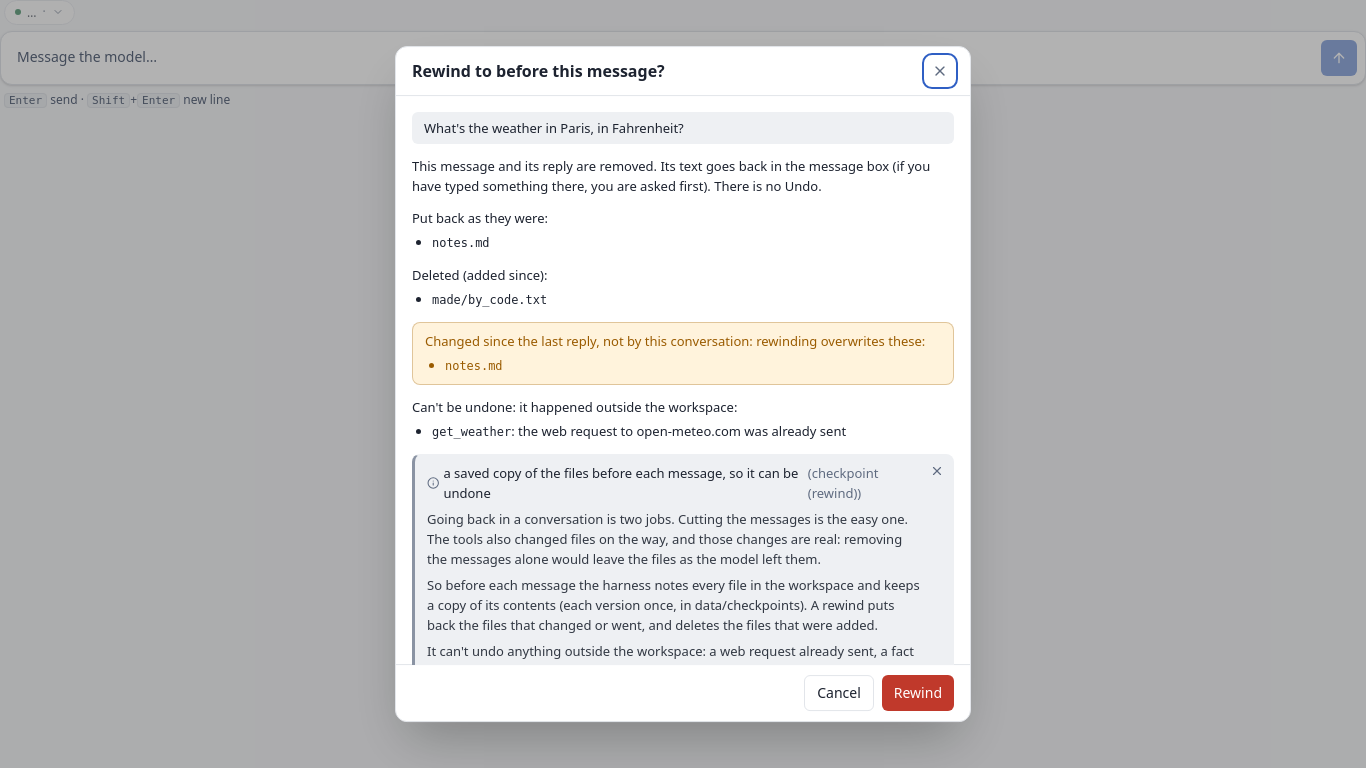
Test: Rewind to here › the dialog lists what it will do; Rewind puts the message back in the box and says what changed
Expected: the list named "Put back as they were" is shown, [432,236,490,250]
Click the button "Rewind".
click(918, 693)  # box [882,675,954,711]
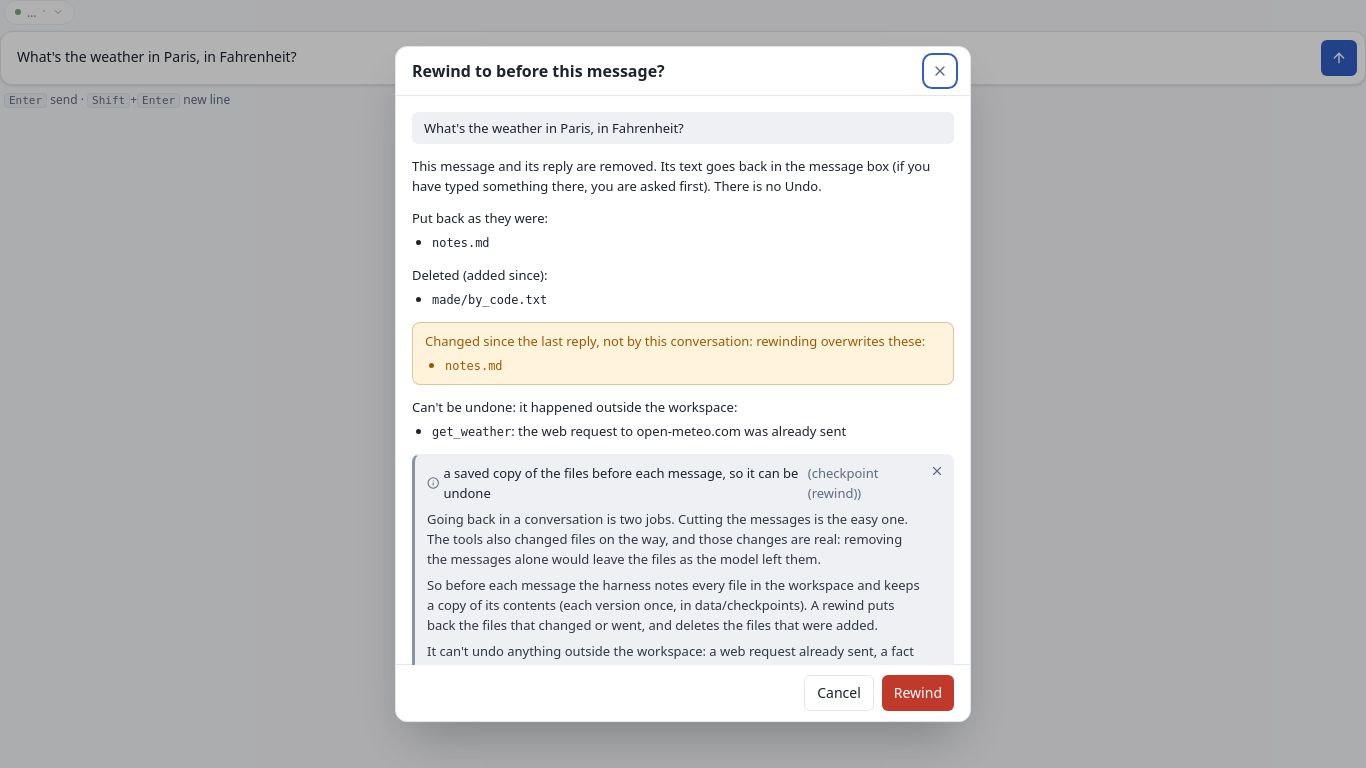
Now the text box named "Message" holds "What's the weather in Paris, in Fahrenheit?", box [9,40,1313,76]
